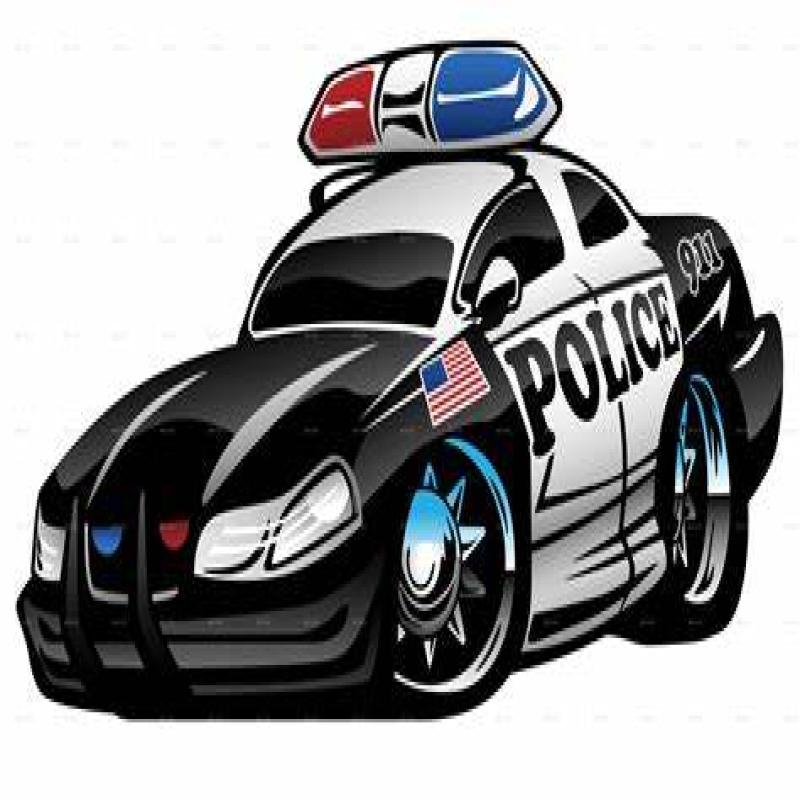AmbulanceSiren: (286, 48, 549, 164)
car: (30, 155, 787, 656)
